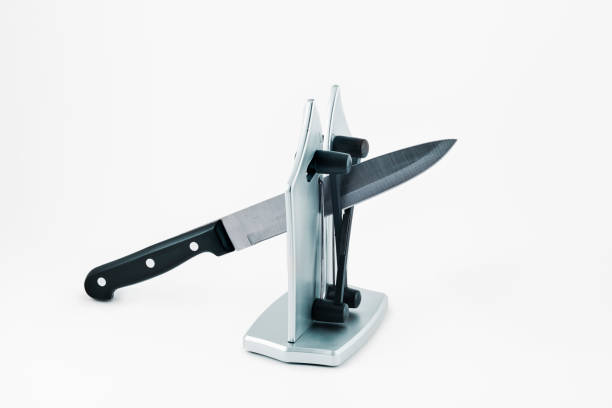knife: (80, 137, 460, 304)
